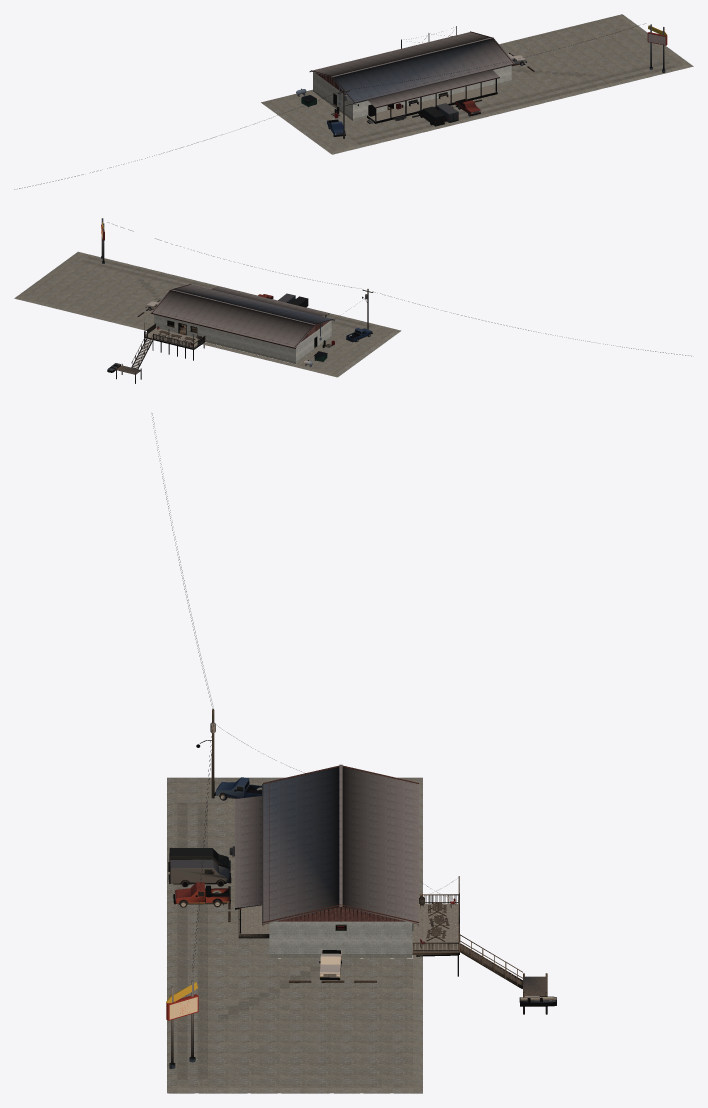
File: town2_bar.gltf
The picture shows the model from 3 angles, top to bottom: view 1: azimuth 30°, elevation 25°; view 2: azimuth 150°, elevation 25°; view 3: azimuth 270°, elevation 25°; orthographic projection. The views are drawn at different scales.
Visible parts, largest first — view 1: Town2Bar_Gravel, Town2Bar_Roof, Town2Bar_PropsOut, Town2Bar_Block, Town2Bar_Deck, Town2Bar_Siding; view 2: Town2Bar_Gravel, Town2Bar_Roof, Town2Bar_Block, Town2Bar_PropsOut, Town2Bar_Deck, Town2Bar_Siding; view 3: Town2Bar_Gravel, Town2Bar_Roof, Town2Bar_PropsOut, Town2Bar_Deck, Town2Bar_Block, Town2Bar_Siding.
Boxes of the visible parts, <box> form: Town2Bar_Gravel: <box>261,14,693,154</box>; Town2Bar_Roof: <box>310,32,514,107</box>; Town2Bar_PropsOut: <box>14,23,667,189</box>; Town2Bar_Block: <box>313,65,511,120</box>; Town2Bar_Deck: <box>366,26,534,123</box>; Town2Bar_Siding: <box>309,31,514,123</box>; Town2Bar_Gravel: <box>14,251,401,377</box>; Town2Bar_Roof: <box>151,284,334,347</box>; Town2Bar_Block: <box>154,314,331,363</box>; Town2Bar_PropsOut: <box>101,218,691,372</box>; Town2Bar_Deck: <box>116,300,205,383</box>; Town2Bar_Siding: <box>151,284,334,348</box>; Town2Bar_Gravel: <box>167,777,422,1093</box>; Town2Bar_Roof: <box>235,764,418,924</box>; Town2Bar_PropsOut: <box>152,413,556,1068</box>; Town2Bar_Deck: <box>228,846,547,1014</box>; Town2Bar_Block: <box>269,921,412,957</box>; Town2Bar_Siding: <box>232,765,419,938</box>.
Size of what is drawn, in the model's own units: 138 by 15.1 by 39.64.
Materials: 12 (11 with a texture image).
